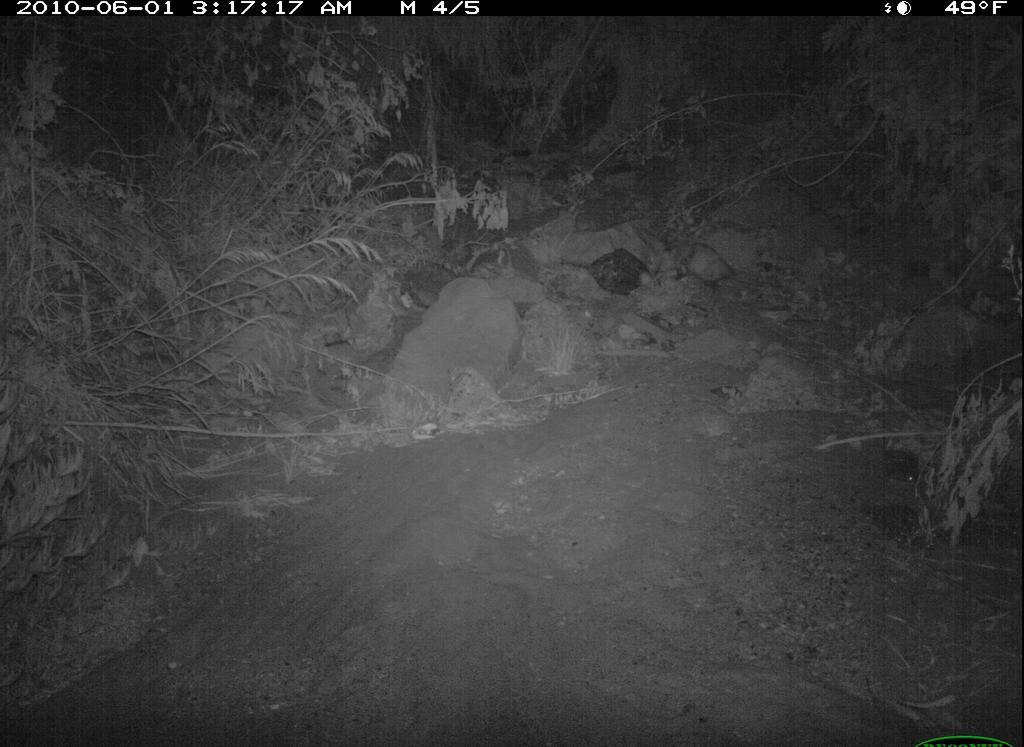opossum: (662, 234, 771, 305)
